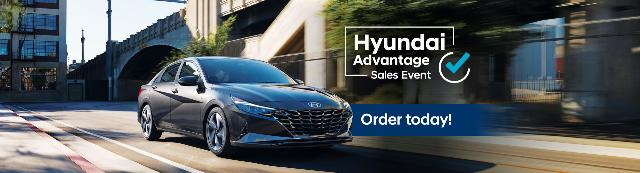hyundai: (136, 56, 354, 156)
